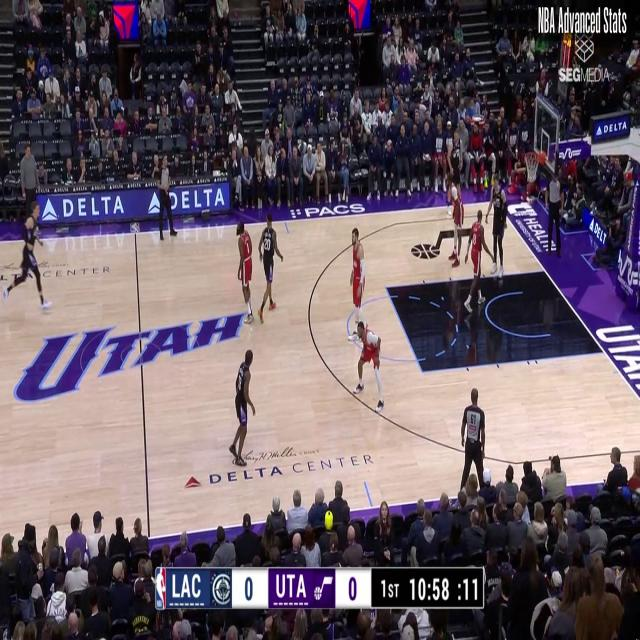judge: (460, 393, 486, 483), (544, 165, 563, 259), (156, 157, 178, 237)
player: (2, 202, 51, 310), (230, 349, 256, 463), (352, 321, 386, 408), (464, 210, 494, 306), (258, 213, 282, 324), (484, 178, 508, 278), (348, 226, 366, 338), (237, 221, 254, 328), (448, 178, 465, 268), (448, 132, 464, 216)
